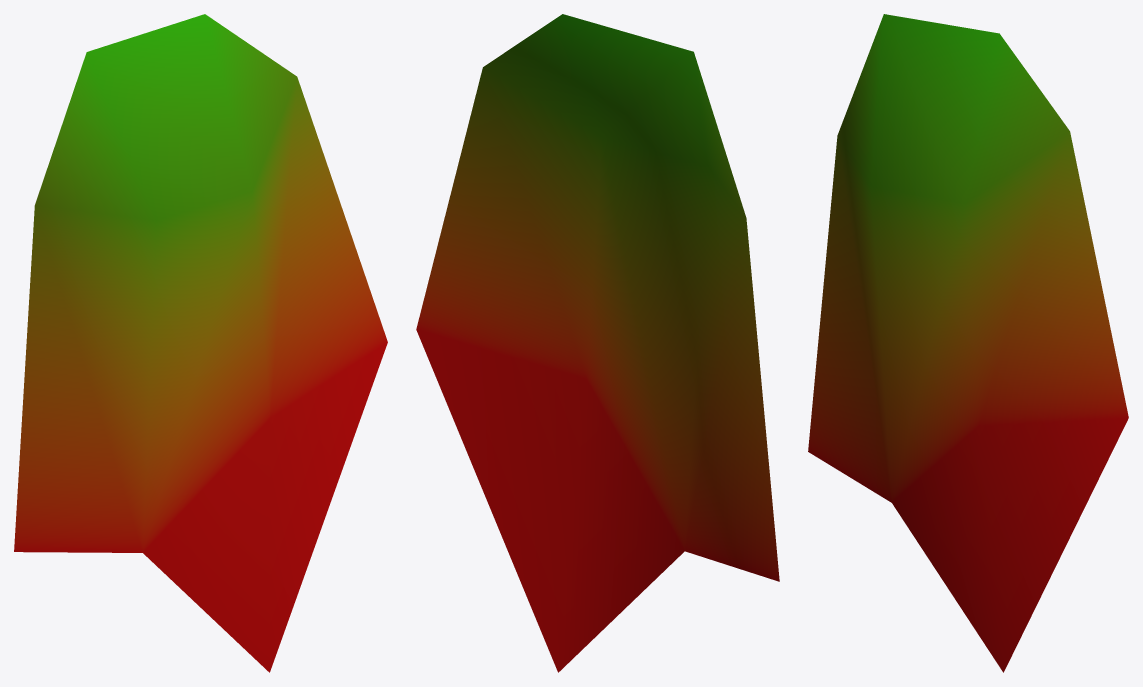
Rendered from Var1_LOD6.fbx.
3 views of the same model, side by side, from view 1: azimuth 30°, elevation 25°; view 2: azimuth 150°, elevation 25°; view 3: azimuth 330°, elevation 25° (orthographic). The views are drawn at different scales.
Visible parts, largest first — view 1: _ey9i_Var1_LOD6; view 2: _ey9i_Var1_LOD6; view 3: _ey9i_Var1_LOD6.
Boxes of the visible parts, x1,y1,x2,y2 form: _ey9i_Var1_LOD6: (14, 14, 387, 672); _ey9i_Var1_LOD6: (416, 14, 779, 672); _ey9i_Var1_LOD6: (808, 14, 1128, 672).
Size of the model in its own units: 150 by 259 by 31.88.
